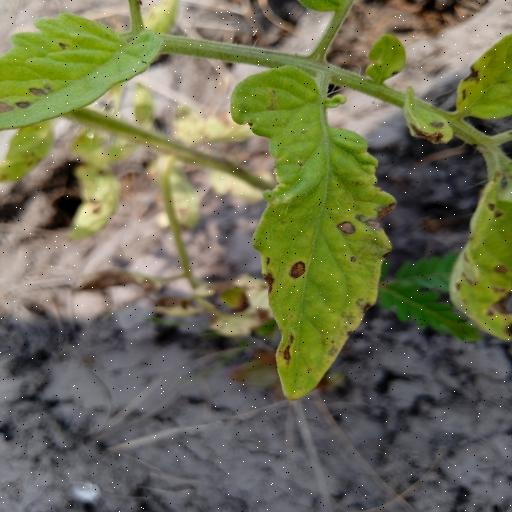Tomato_Brown_Spots: (227, 68, 407, 407)
